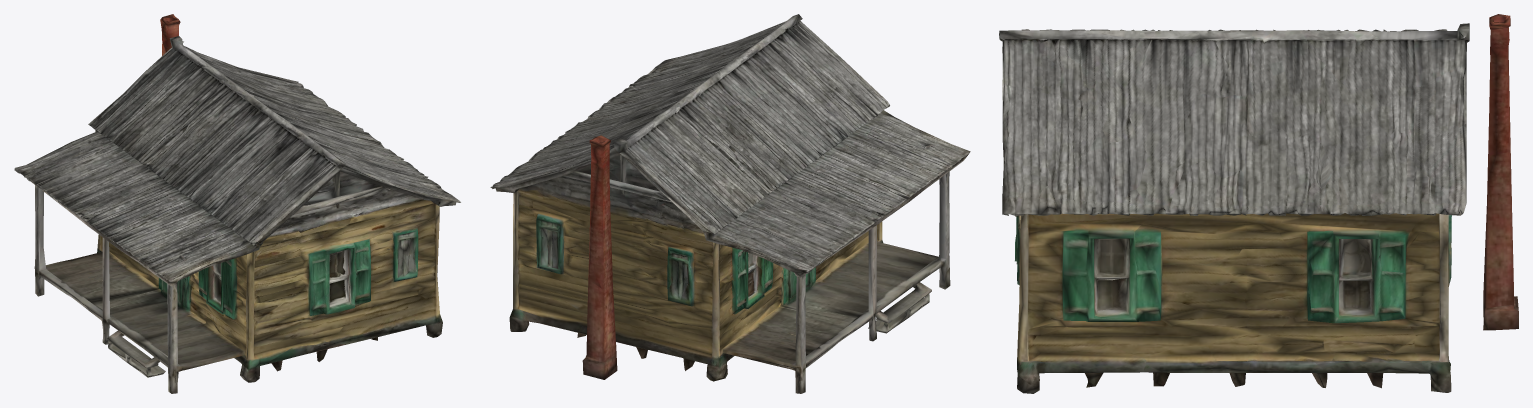
The model's file is dock-cottage.glb.
3 renders of one model, left to right at view 1: azimuth 30°, elevation 25°; view 2: azimuth 150°, elevation 25°; view 3: azimuth 270°, elevation 25°, orthographic. The views are drawn at different scales.
Visible parts, largest first — view 1: tripo_node_2d06c58b-59f8-4e97-9357-03bae3a34fd4; view 2: tripo_node_2d06c58b-59f8-4e97-9357-03bae3a34fd4; view 3: tripo_node_2d06c58b-59f8-4e97-9357-03bae3a34fd4.
Boxes of the visible parts, bbox=[...] form: tripo_node_2d06c58b-59f8-4e97-9357-03bae3a34fd4: bbox=[14, 14, 460, 393]; tripo_node_2d06c58b-59f8-4e97-9357-03bae3a34fd4: bbox=[490, 14, 970, 393]; tripo_node_2d06c58b-59f8-4e97-9357-03bae3a34fd4: bbox=[999, 14, 1518, 393].
Size of the model in its own units: 0.8814 by 0.6327 by 0.9715.
1 material, 1 textured.
